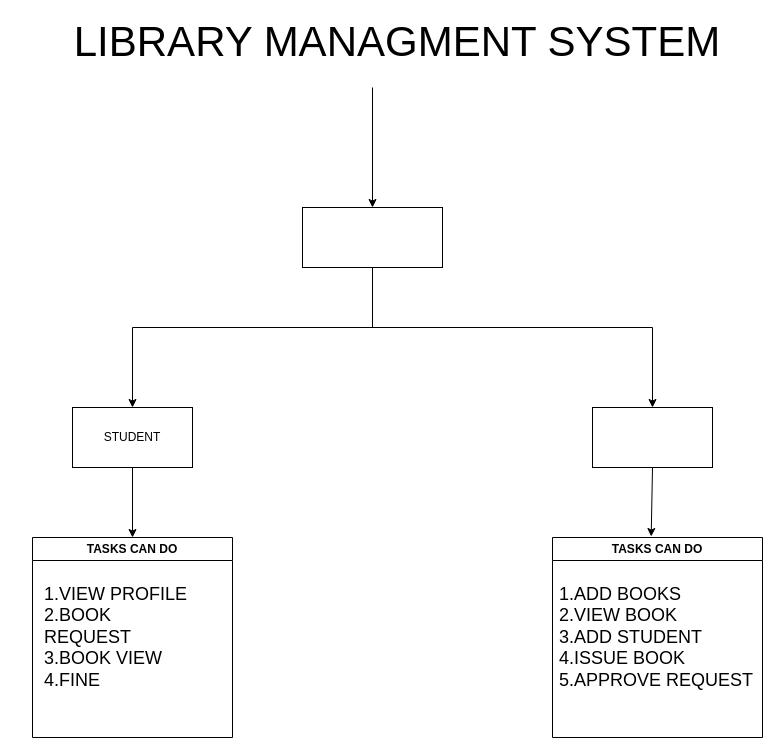
Image size: 784x755. Some labels were removed from this diagram. Here are the shapes that lost their labels. From the top down, the centre of each, then its label:
the point at 372,237: SUPER ADMIN
the point at 652,437: LIBRARIAN (ADMIN)
